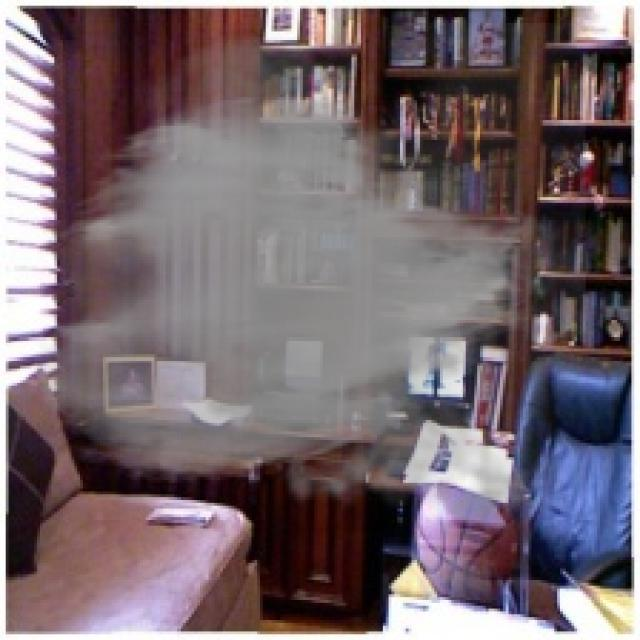Smoke: (28, 22, 586, 538)
